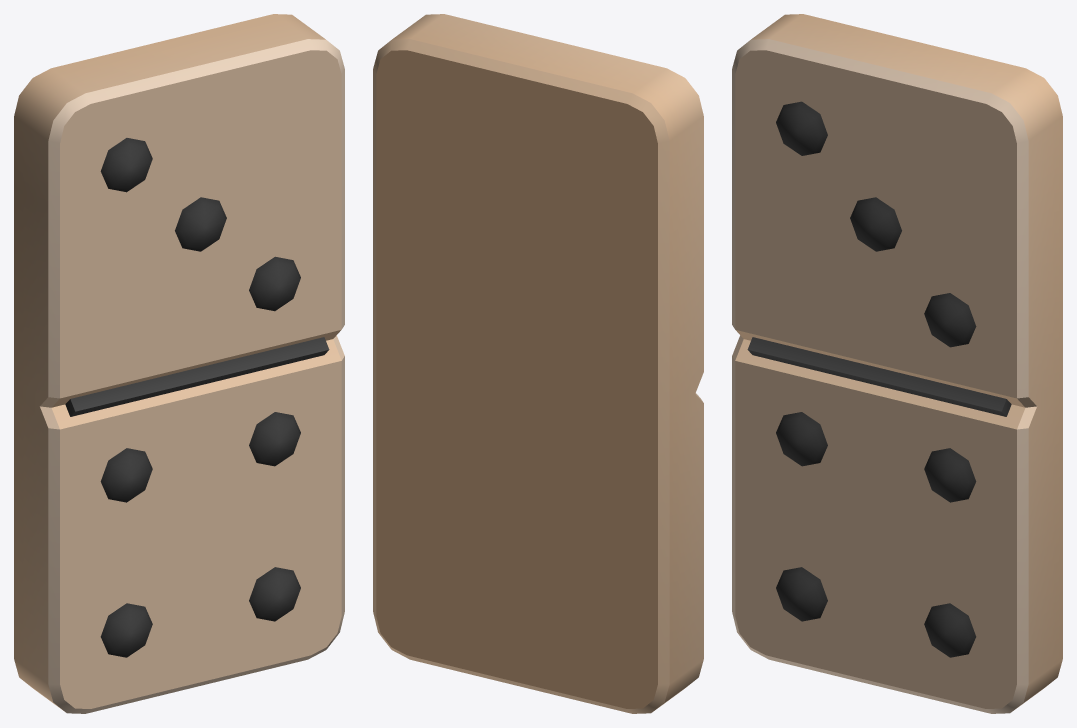
The model's file is KFB_Domino_3-4.r1.glb.
The picture shows the model from 3 angles, left to right: view 1: azimuth 30°, elevation 25°; view 2: azimuth 150°, elevation 25°; view 3: azimuth 330°, elevation 25°; orthographic projection.
Visible parts, largest first — view 1: KFB_Domino_3-4; view 2: KFB_Domino_3-4; view 3: KFB_Domino_3-4.
Part boxes in pixels (box(x1,y1,x2,y2)): KFB_Domino_3-4: box(14, 14, 344, 713); KFB_Domino_3-4: box(373, 14, 703, 713); KFB_Domino_3-4: box(732, 14, 1062, 713).
Bounding box in the file's own units: 2.44 × 4.87 × 0.6739.
Materials: 1 (1 with a texture image).
